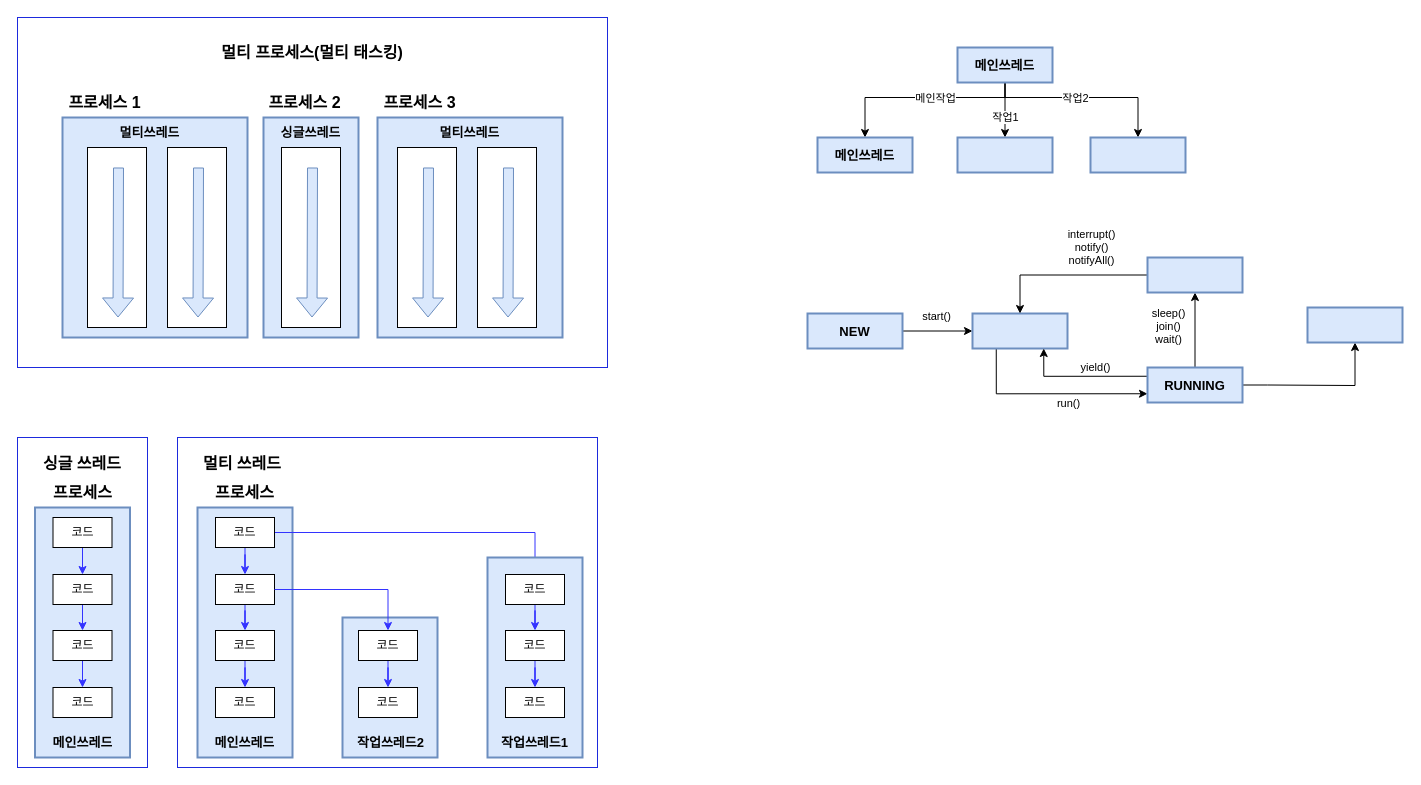
Some shapes in this 1421 by 785 pixel diagram are drawn without their labels. Here are the shapes that lost their labels. From the top down, the centre of each, then its label:
point (1004, 154): 쓰레드1
point (1137, 154): 쓰레드2
point (1194, 274): WATING
point (1019, 330): RUNNABLE
point (1354, 324): TERMINATED
